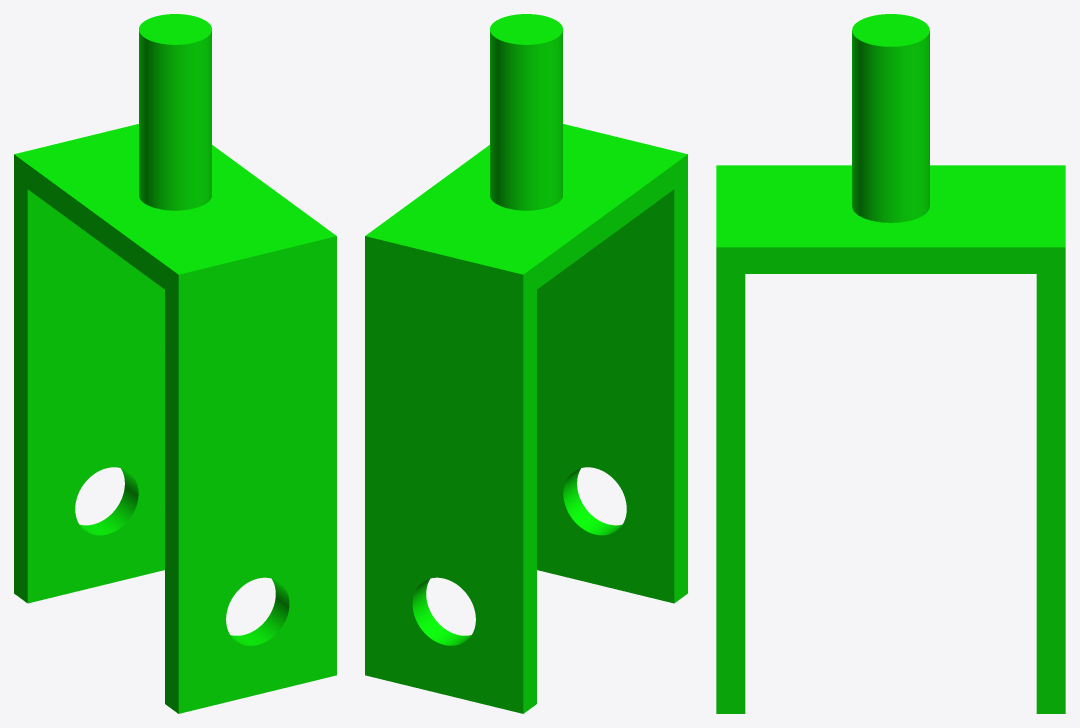
Rendered from roamr_caster.dae.
The picture shows the model from 3 angles, left to right: view 1: azimuth 30°, elevation 25°; view 2: azimuth 150°, elevation 25°; view 3: azimuth 270°, elevation 25°; orthographic projection. The views are drawn at different scales.
Parts seen in each view (by area): view 1: node0; view 2: node0; view 3: node0.
Part boxes in pixels (bbox=[...]): node0: bbox=[14, 14, 336, 713]; node0: bbox=[365, 14, 687, 713]; node0: bbox=[716, 14, 1065, 713].
Size of the model in its own units: 0.02 by 0.036 by 0.073.
